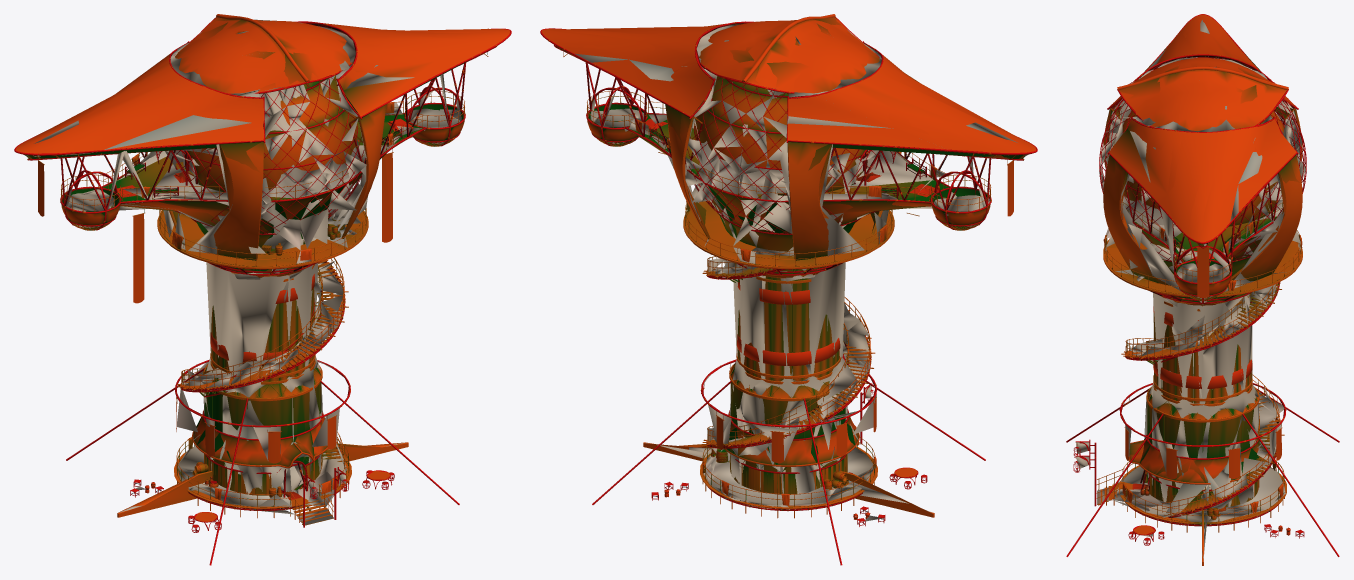
The model's file is KB3D_GAE_BldgLG_I.glb.
3 views of the same model, side by side, from view 1: azimuth 30°, elevation 25°; view 2: azimuth 150°, elevation 25°; view 3: azimuth 270°, elevation 25° (orthographic). The views are drawn at different scales.
Parts seen in each view (by area): view 1: L0, L2, L1; view 2: L0, L2, L1; view 3: L0, L2, L1.
Boxes of the visible parts, bbox=[...] form: L0: bbox=[14, 14, 511, 565]; L2: bbox=[24, 19, 461, 524]; L1: bbox=[16, 14, 509, 531]; L0: bbox=[540, 14, 1037, 565]; L2: bbox=[555, 24, 1028, 521]; L1: bbox=[541, 16, 1036, 521]; L0: bbox=[1066, 14, 1339, 565]; L2: bbox=[1075, 20, 1306, 561]; L1: bbox=[1074, 14, 1306, 559].
Bounding box in the file's own units: 47.87 × 42.23 × 24.16.
